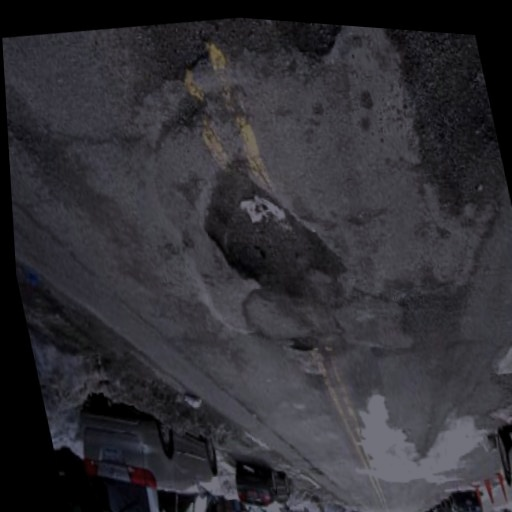pothole: (289, 333, 316, 361)
